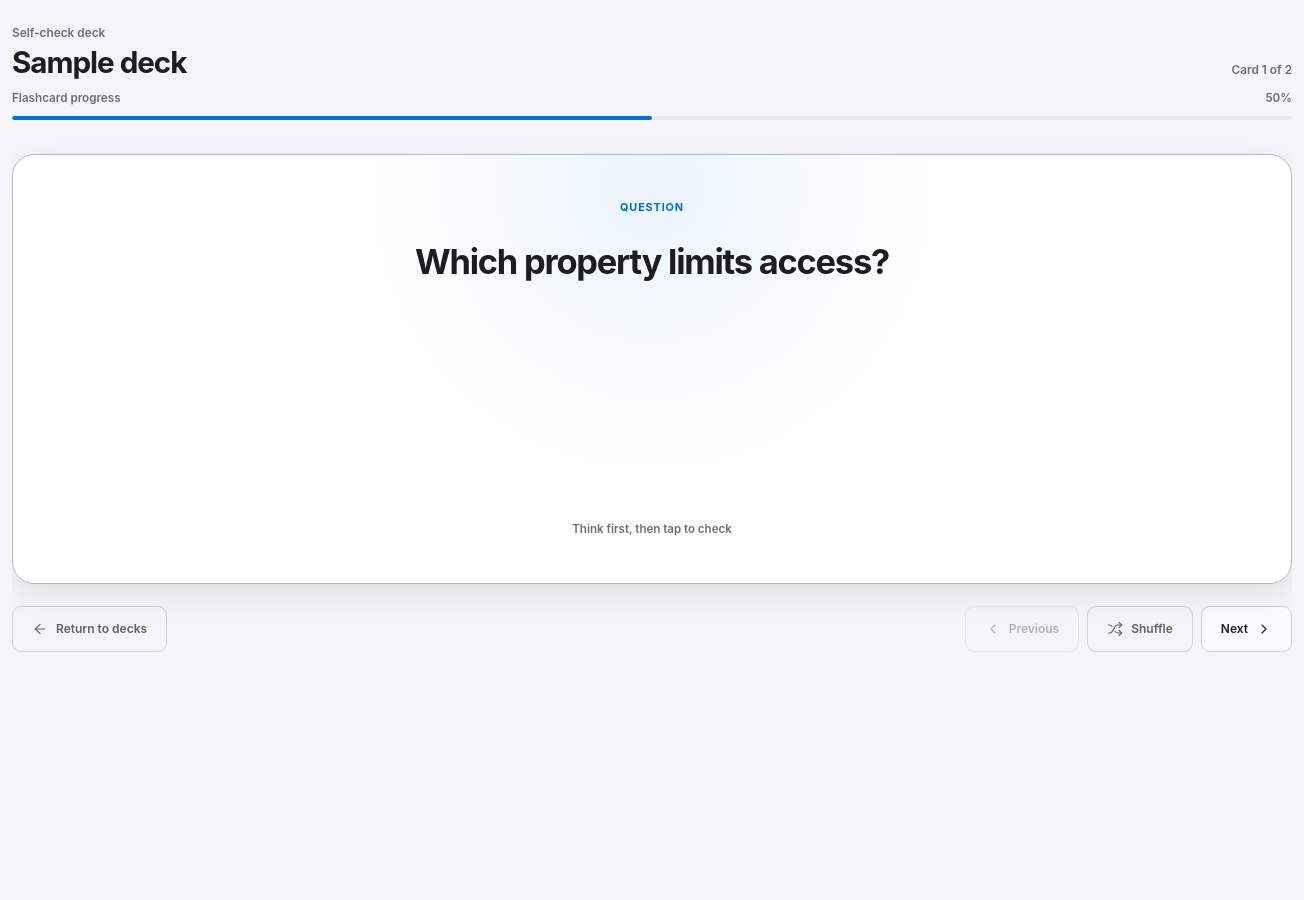
Test: FlashcardDeck › moves with arrow keys and resets the next card to its front
Click the button with aria-label "reveal answer". click: (652, 369)
box: [12,154,1292,584]
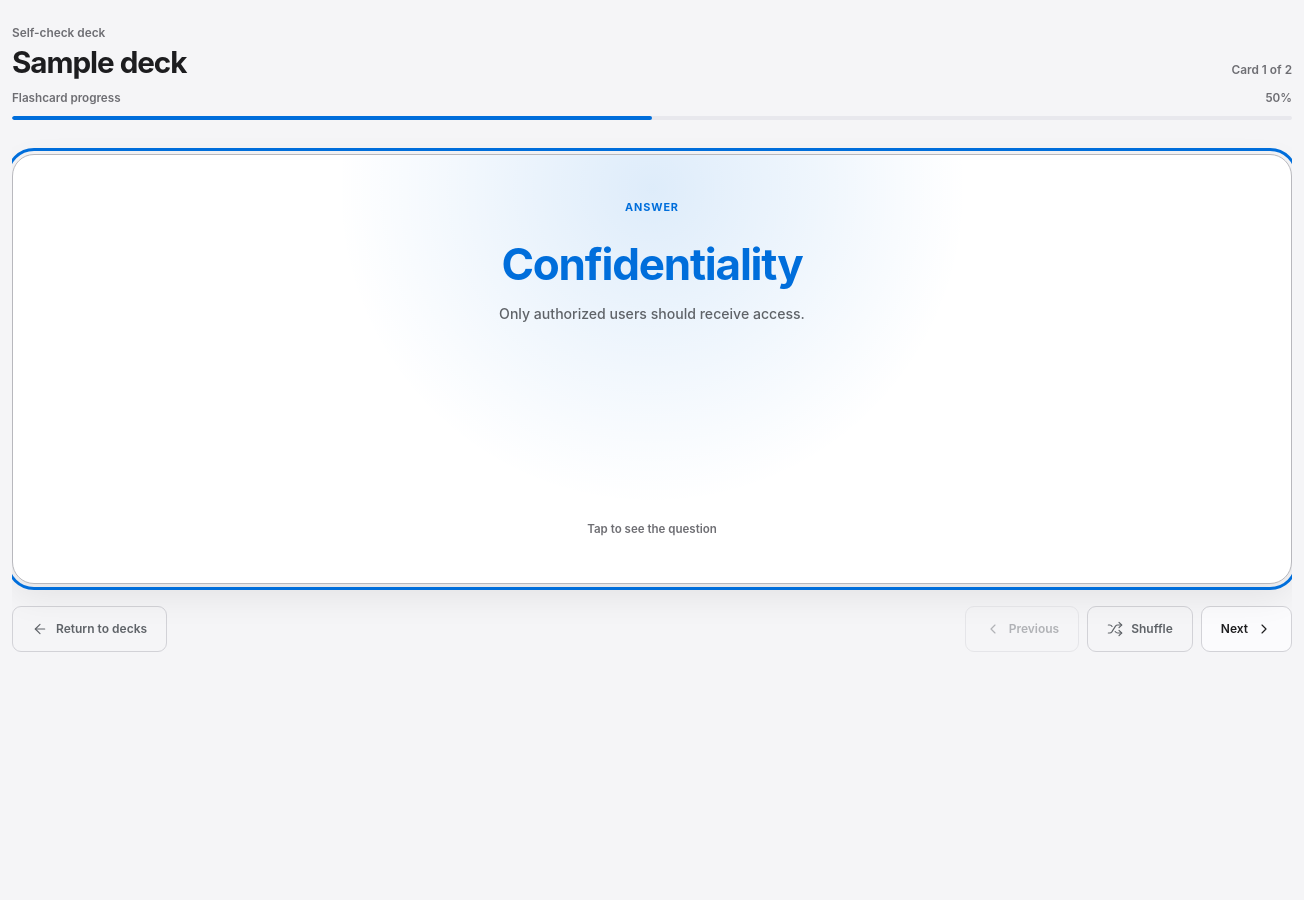
Press Arrowright
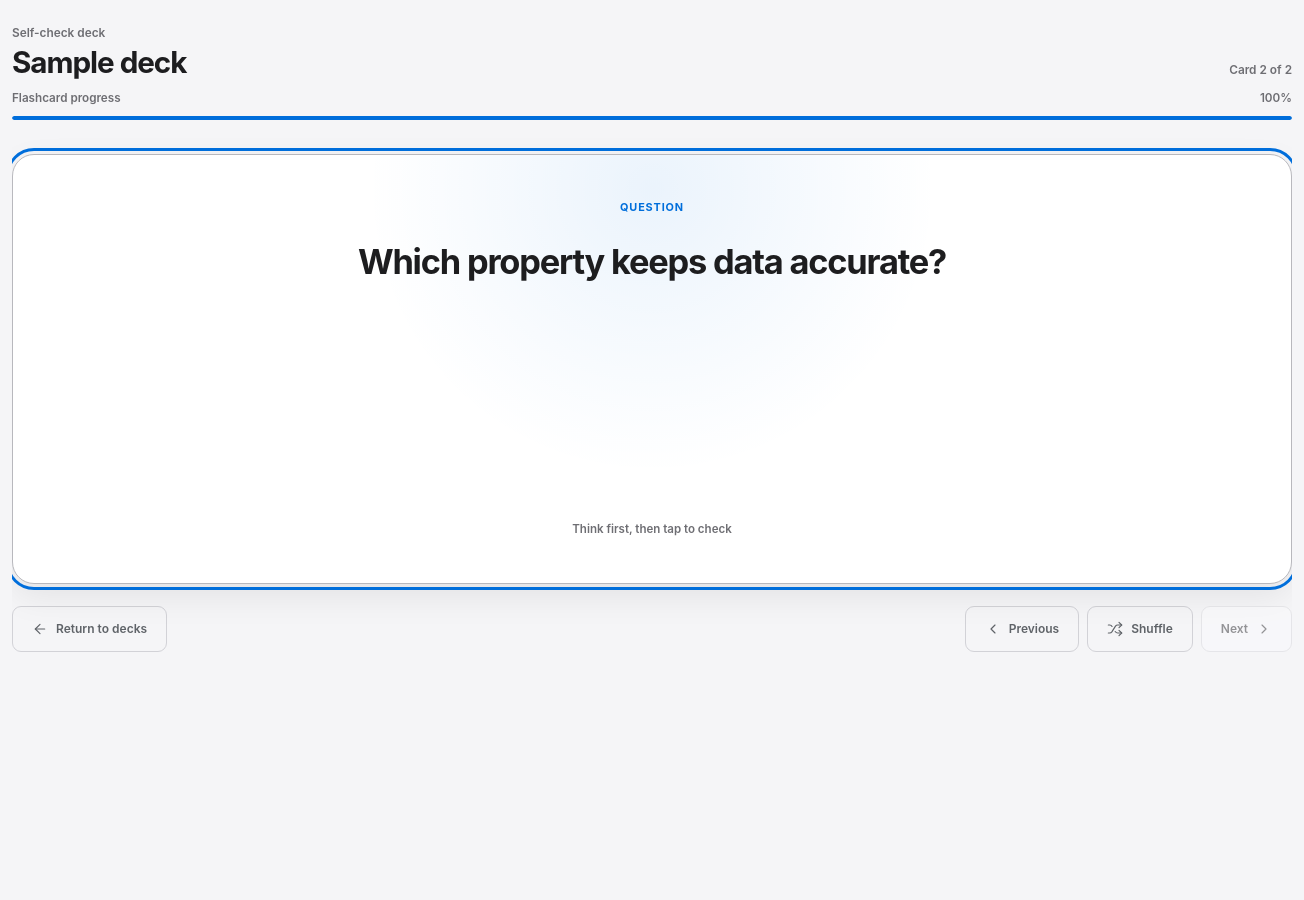
Check: the text "Card 2 of 2" is shown, box [1229,61,1292,79]
Check: the text "Which property keeps data accurate?" is shown, box [358,241,946,282]
Press Arrowleft
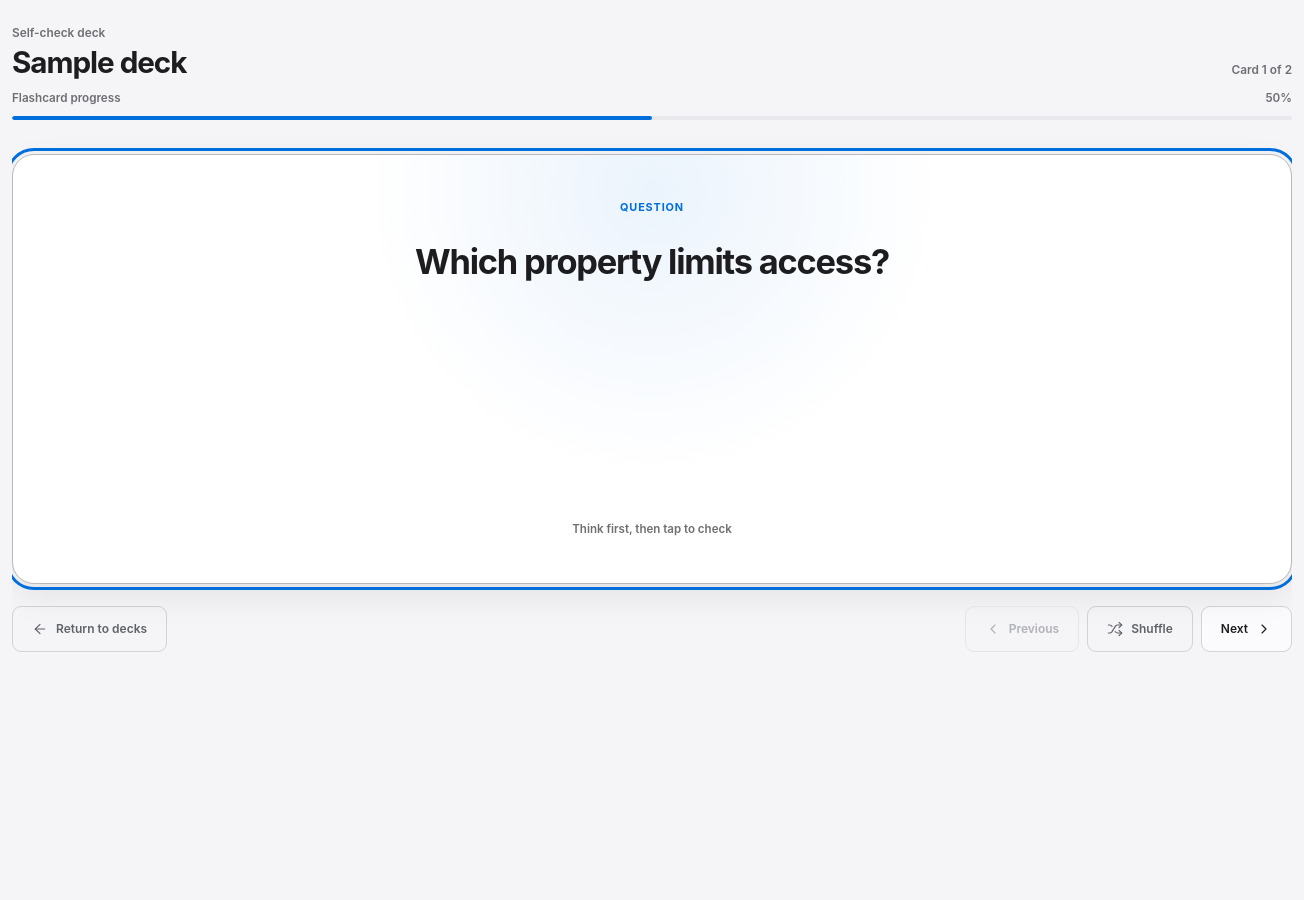
Check: the text "Card 1 of 2" is shown, box [1232,61,1292,79]
